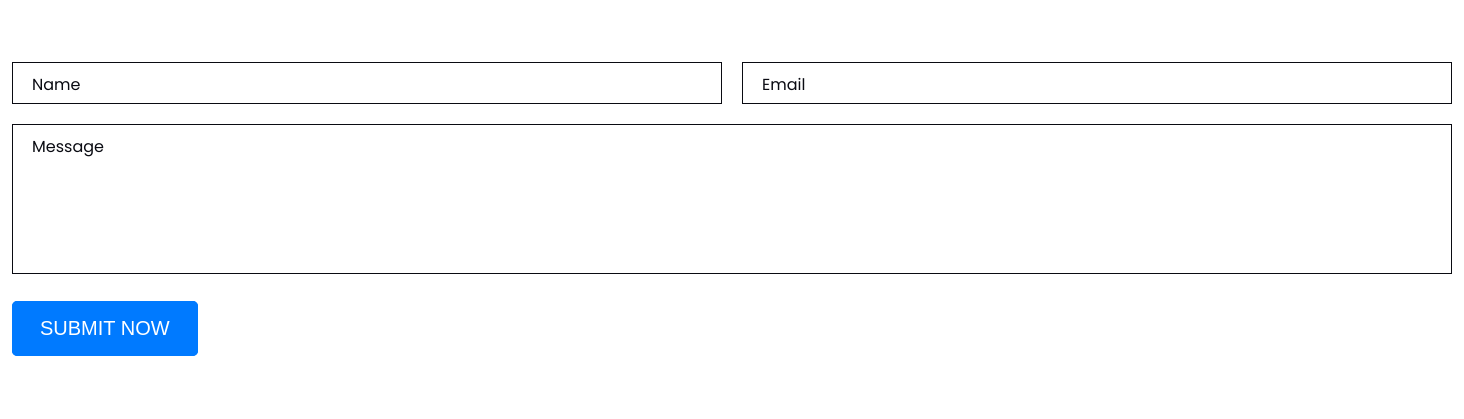
Test: ContactForm (components) › successful submission › displays the success message on successful submission
This screenshot has width=1464, height=419.
Step 1. Type "John Doe" into the field with placeholder "Name" → [367, 83], box left=12, top=62, right=722, bottom=104
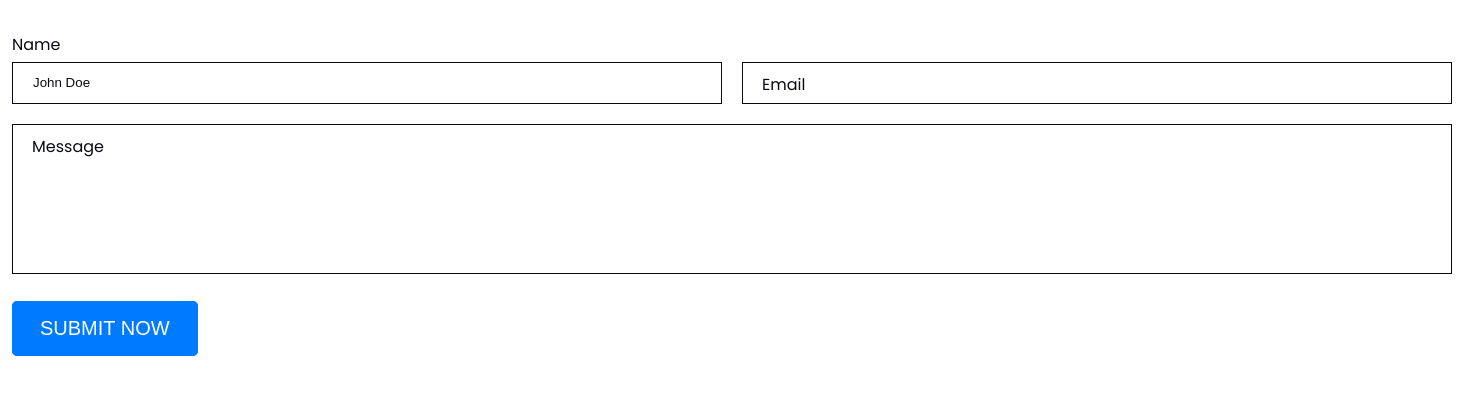
Step 2. Type "john.doe@example.com" into the field with placeholder "Email" → [1097, 83], box left=742, top=62, right=1452, bottom=104
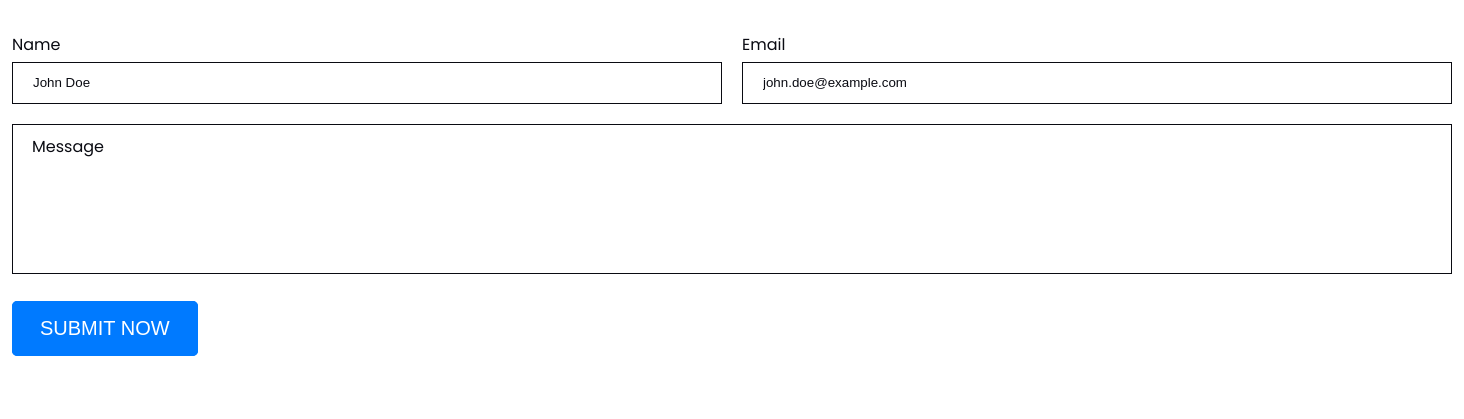
Step 3. Type "This message is long enough to pass validation rules." into the text box with placeholder "Message" → [732, 199], box left=12, top=124, right=1452, bottom=274
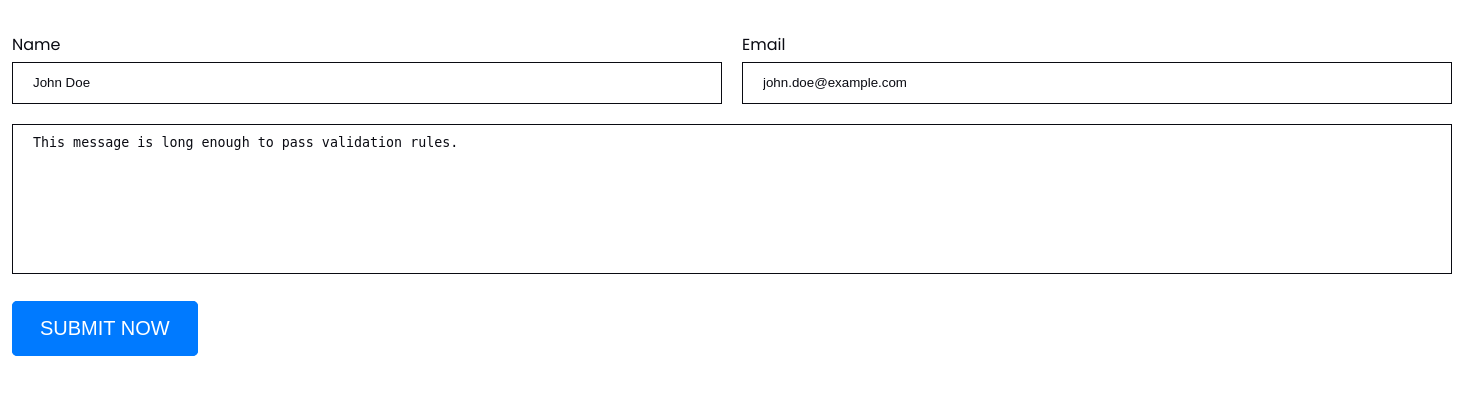
Step 4. Click the button → [105, 328], box left=12, top=301, right=198, bottom=356
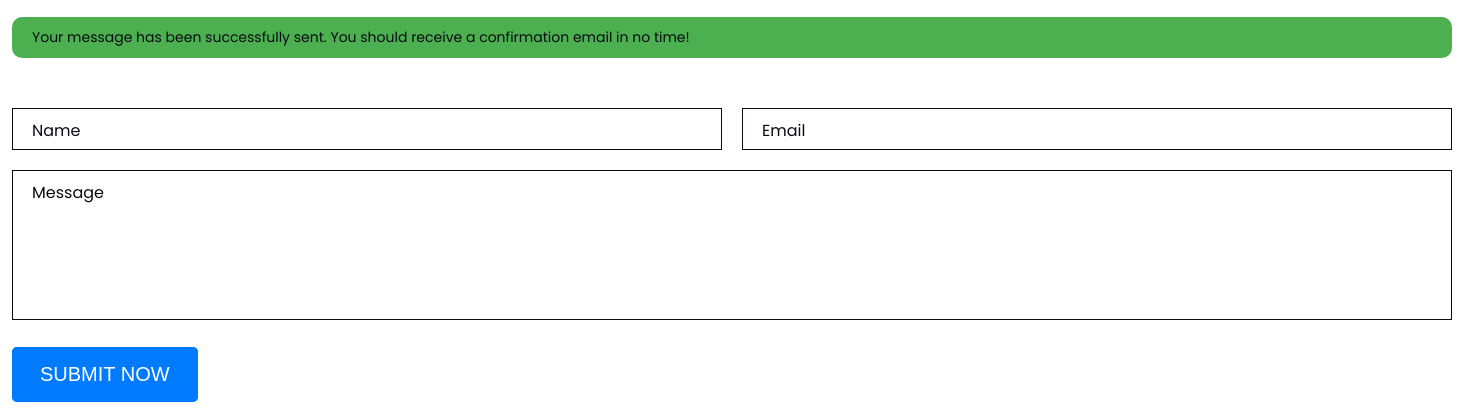
expect the text named "Success Message" is shown: met, box left=12, top=16, right=1452, bottom=58
